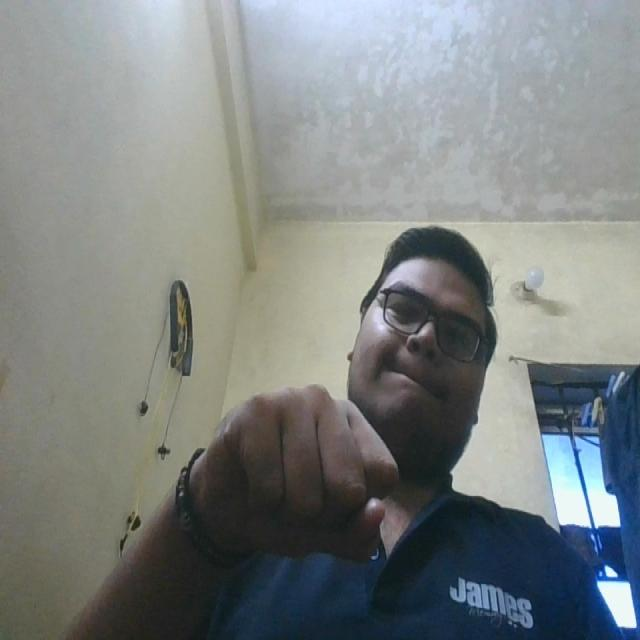Yes: (201, 372, 403, 556)
